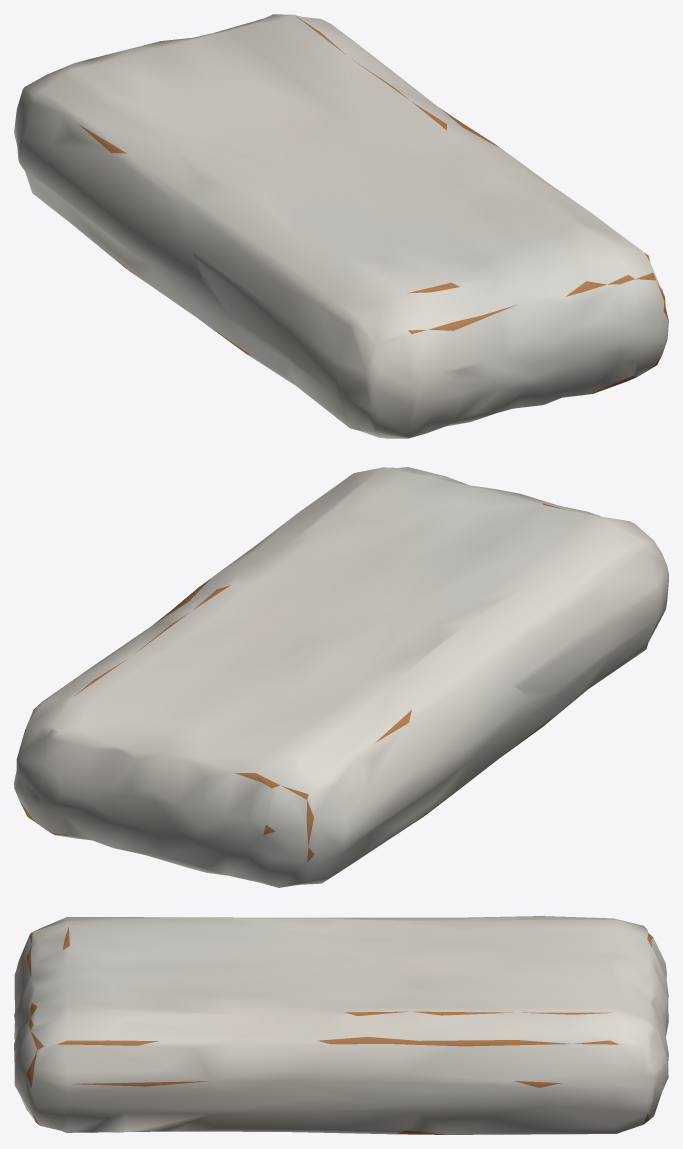
Rendered from frost_sill_step_lod1.glb.
3 views of the same model, one above another, from view 1: azimuth 30°, elevation 25°; view 2: azimuth 150°, elevation 25°; view 3: azimuth 270°, elevation 25° (orthographic). The views are drawn at different scales.
Visible parts, largest first — view 1: frost_sill_step.001; view 2: frost_sill_step.001; view 3: frost_sill_step.001.
Boxes of the visible parts, <box> form: frost_sill_step.001: <box>14,14,668,438</box>; frost_sill_step.001: <box>14,467,668,887</box>; frost_sill_step.001: <box>14,916,668,1134</box>.
Size of the model in its own units: 10.16 by 4.15 by 20.1.
